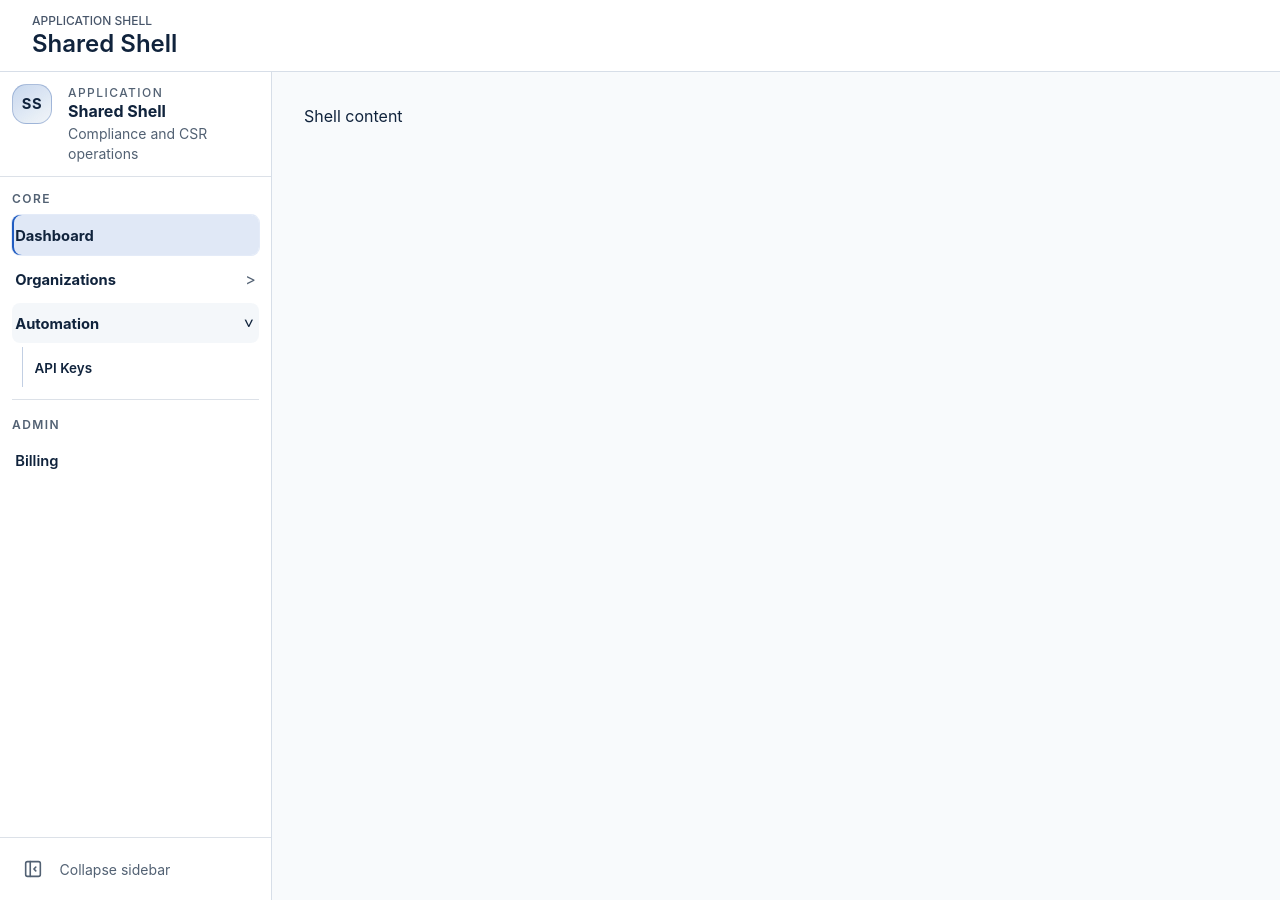
it: VerifyForGoodAppShell › keeps only one top-level branch expanded at a time
Click the button "Organizations >".
click(136, 279)  # box [12,259,259,299]
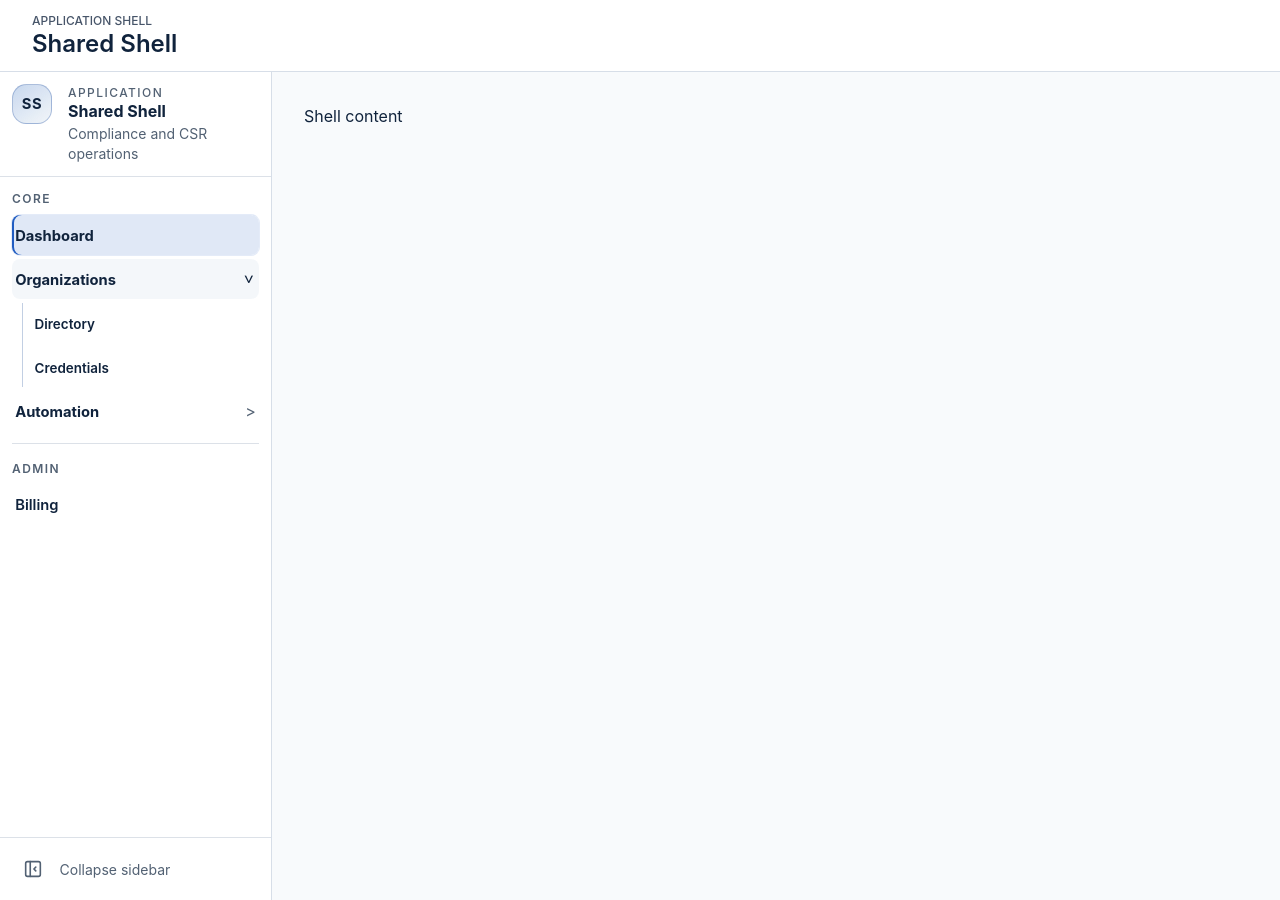
Check: the link "Directory" is shown, box [35,316,95,332]
Click the button "Automation >".
click(136, 411)  # box [12,391,259,431]
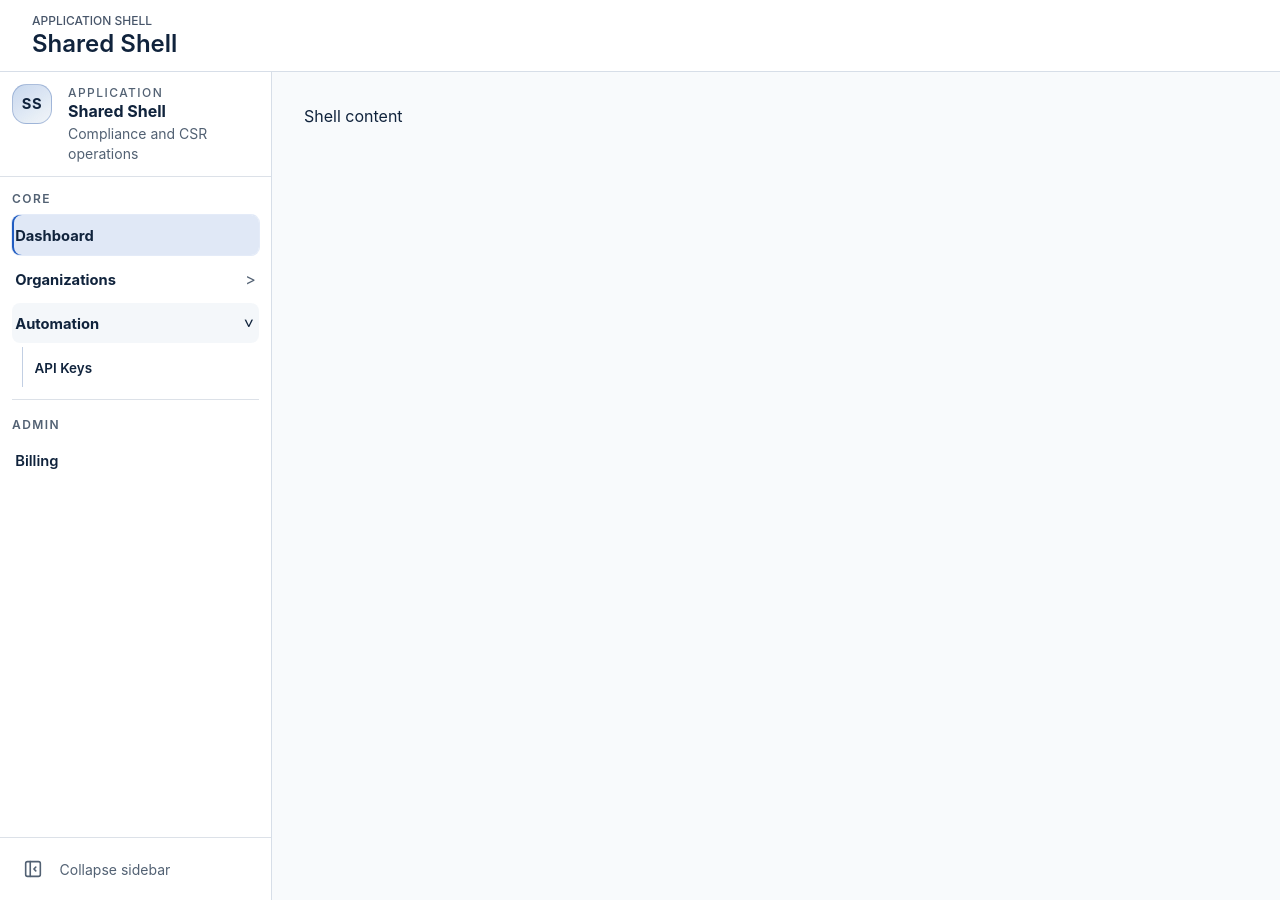
Check: the link "Directory" is gone
Check: the link "API Keys" is shown, box [35,360,92,376]
Check: the button "Automation >" is expanded, box [12,303,259,343]
